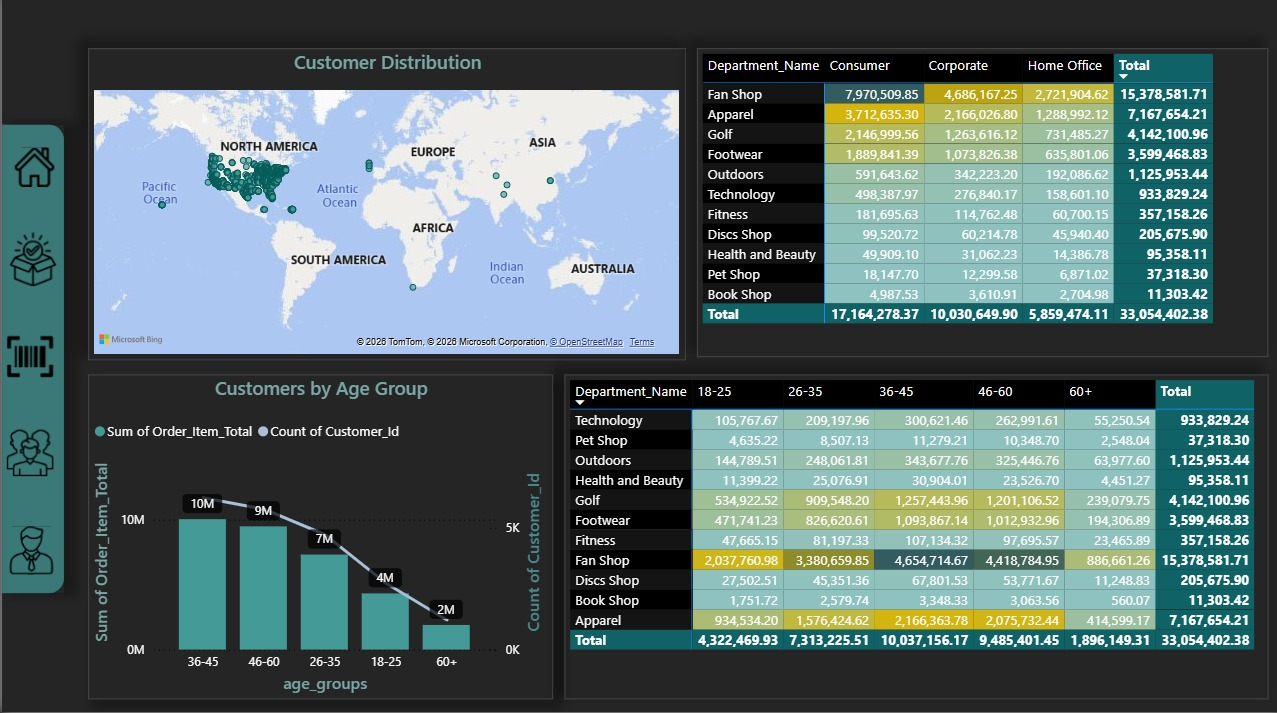

This screenshot's page, from the dashboard's own definition file:
{"tool":"powerbi","page":{"name":"Customer","canvas":[1280,720],"ordinal":3},"visuals":[{"type":"map","title":"Customer Distribution","fields":{"X":["Gold DimCustomers.Longitude"],"Y":["Gold DimCustomers.Latitude"]},"box":[86.6,56.3,597.3,311.6],"z":0},{"type":"shape","box":[0,132.7,62,468.9],"z":0,"group":"g1"},{"type":"actionButton","box":[8.7,147.1,47.6,56.3],"z":1000,"group":"g1"},{"type":"lineStackedColumnComboChart","title":"Customers by Age Group","fields":{"Category":["Gold DimCustomers.age_groups"],"Y2":["CountNonNull(Gold DimCustomers.Customer_Id)"],"Y":["Sum(Gold FactOrders.Order_Item_Total)"]},"box":[86.6,382.3,464.6,324.6],"z":1000},{"type":"group","id":"g1","title":"Group 1","box":[0,132.7,62,468.9],"z":2000},{"type":"actionButton","box":[0,235.5,62,64.9],"z":2000,"group":"g1"},{"type":"actionButton","box":[0,332.5,56.3,64.9],"z":3000,"group":"g1"},{"type":"pivotTable","fields":{"Columns":["Gold DimCustomers.age_groups"],"Values":["Sum(Gold FactOrders.Order_Item_Total)"],"Rows":["Gold DimProducts.Department_Name"]},"box":[562.7,382.3,704.1,324.6],"z":3000},{"type":"pivotTable","fields":{"Columns":["Gold DimCustomers.Customer_Segment"],"Rows":["Gold DimProducts.Department_Name"],"Values":["Sum(Gold FactOrders.Order_Item_Total)"]},"box":[695.4,56.3,571.3,308.8],"z":4000},{"type":"actionButton","box":[0,429.5,56.3,64.9],"z":4000,"group":"g1"},{"type":"actionButton","box":[1.4,526.6,56.3,64.9],"z":5000,"group":"g1"}]}

Visuals, with their boxes on the page's 1280x720 design canvas (x1, y1, x2, y2). These are canvas units, not pixel positions in the 1277x713 screenshot, which may show the page scaled, cropped or inside an application window:
"Customer Distribution" map: 87, 56, 684, 368
shape: 0, 133, 62, 602
actionButton: 9, 147, 56, 203
"Customers by Age Group" lineStackedColumnComboChart: 87, 382, 551, 707
"Group 1" group: 0, 133, 62, 602
actionButton: 0, 236, 62, 300
actionButton: 0, 332, 56, 397
pivotTable - Gold DimCustomers.age_groups x Sum(Gold FactOrders.Order_Item_Total): 563, 382, 1267, 707
pivotTable - Gold DimCustomers.Customer_Segment x Gold DimProducts.Department_Name: 695, 56, 1267, 365
actionButton: 0, 430, 56, 494
actionButton: 1, 527, 58, 592
